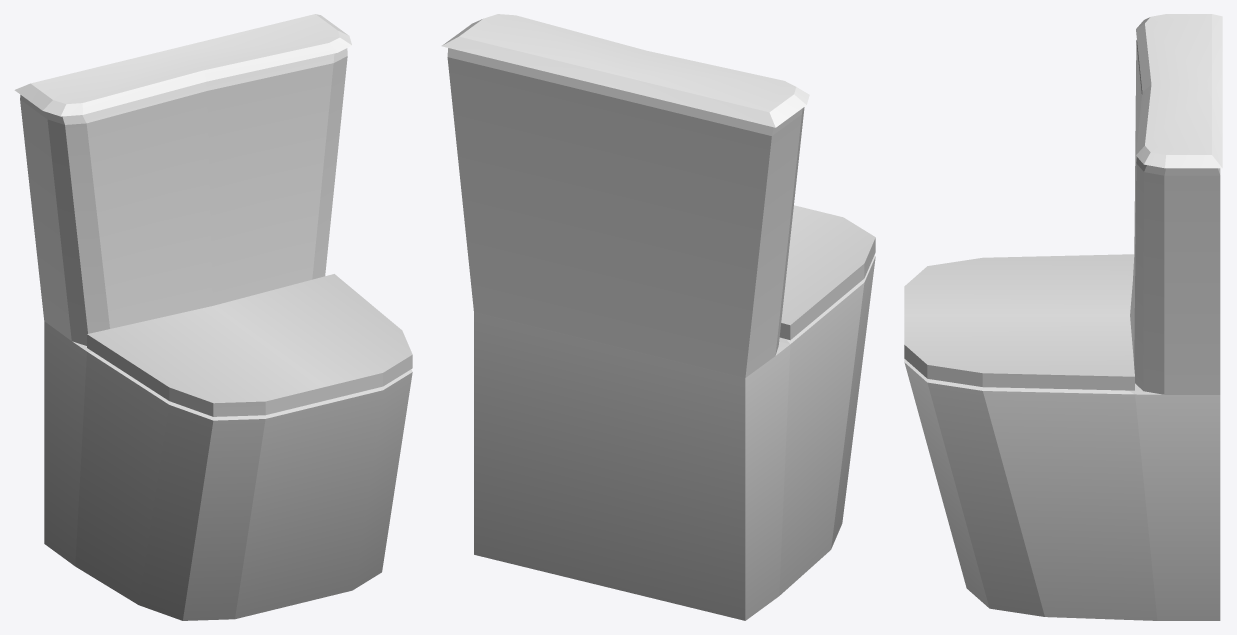
File: sp_wc_human_a.fbx
3 views of the same model, side by side, from view 1: azimuth 30°, elevation 25°; view 2: azimuth 150°, elevation 25°; view 3: azimuth 270°, elevation 25° (orthographic). The views are drawn at different scales.
Parts seen in each view (by area): view 1: sp_wc_human_a; view 2: sp_wc_human_a; view 3: sp_wc_human_a.
Boxes of the visible parts, x1,y1,x2,y2 form: sp_wc_human_a: [14, 14, 412, 620]; sp_wc_human_a: [441, 14, 875, 620]; sp_wc_human_a: [904, 14, 1222, 620].
Size of the model in its own units: 127 by 186 by 113.
